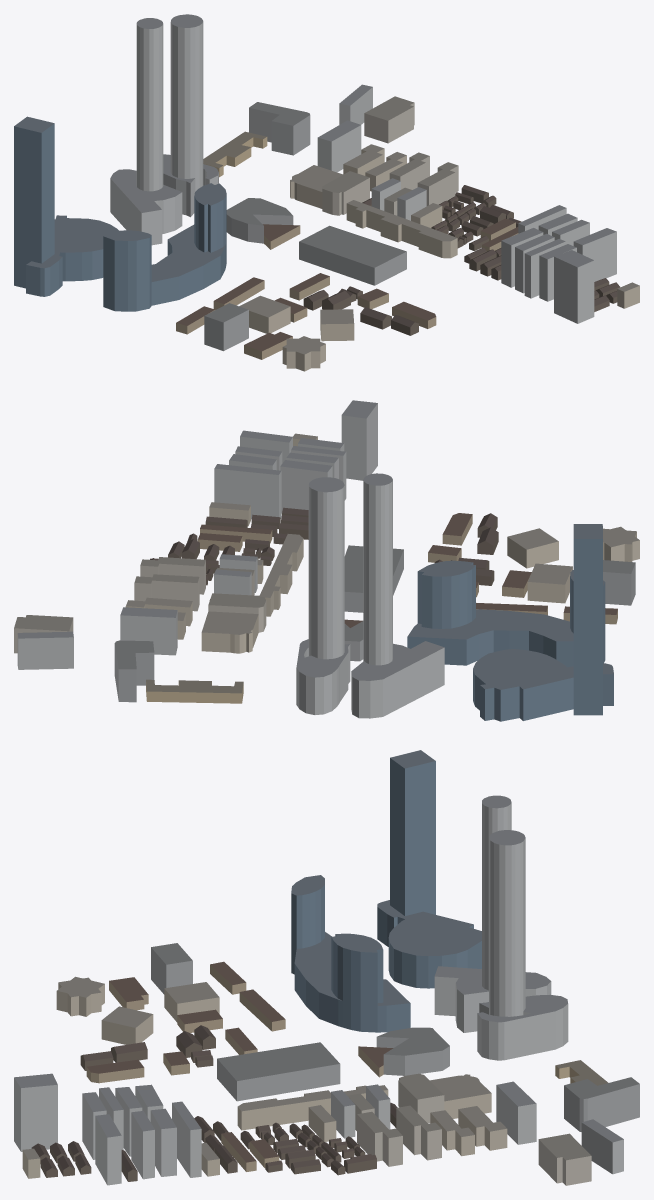
File: tile_4_7.glb
3 renders of one model, top to bottom at view 1: azimuth 30°, elevation 25°; view 2: azimuth 150°, elevation 25°; view 3: azimuth 270°, elevation 25°, orthographic. The views are drawn at different scales.
Visible parts, largest first — view 1: HP-w372180394, HP-w257424587, HP-w436817401, HP-w436817402, HP-w306461799, HP-w165952548, HP-w505643413, HP-w1197273918, HP-w165952553, HP-w369238008, HP-w505641134, HP-w372180463 (+27 smaller); view 2: HP-w372180394, HP-w436817401, HP-w257424587, HP-w436817402, HP-w505649222, HP-w505643413, HP-w505641134, HP-w165824718, HP-w369237858, HP-w1197273918, HP-w493840181, HP-w165952548 (+27 smaller); view 3: HP-w372180394, HP-w436817402, HP-w257424587, HP-w436817401, HP-w306461799, HP-w1197273918, HP-w505643413, HP-w165952553, HP-w165952548, HP-w369238008, HP-w505641134, HP-w372180529 (+29 smaller).
Boxes of the visible parts, <box> form: HP-w372180394: <box>14,116,118,296</box>; HP-w257424587: <box>103,183,226,311</box>; HP-w436817401: <box>110,18,182,245</box>; HP-w436817402: <box>163,14,218,217</box>; HP-w306461799: <box>299,225,406,285</box>; HP-w165952548: <box>346,200,457,258</box>; HP-w505643413: <box>554,250,594,323</box>; HP-w1197273918: <box>249,102,310,155</box>; HP-w165952553: <box>226,198,293,243</box>; HP-w369238008: <box>364,96,414,143</box>; HP-w505641134: <box>317,120,361,172</box>; HP-w372180463: <box>204,303,248,351</box>; HP-w372180394: <box>473,524,613,721</box>; HP-w436817401: <box>351,473,444,718</box>; HP-w257424587: <box>407,560,605,667</box>; HP-w436817402: <box>296,477,350,714</box>; HP-w505649222: <box>214,464,281,519</box>; HP-w505643413: <box>341,400,377,480</box>; HP-w505641134: <box>120,607,177,655</box>; HP-w165824718: <box>201,611,258,653</box>; HP-w369237858: <box>17,631,73,669</box>; HP-w1197273918: <box>114,640,154,702</box>; HP-w493840181: <box>146,679,243,703</box>; HP-w165952548: <box>259,534,303,616</box>; HP-w372180394: <box>377,750,481,988</box>; HP-w436817402: <box>477,830,568,1060</box>; HP-w257424587: <box>291,875,410,1032</box>; HP-w436817401: <box>434,795,551,1032</box>; HP-w306461799: <box>217,1042,340,1101</box>; HP-w1197273918: <box>564,1077,639,1131</box>; HP-w505643413: <box>14,1073,57,1151</box>; HP-w165952553: <box>376,1027,449,1075</box>; HP-w165952548: <box>237,1085,388,1130</box>; HP-w369238008: <box>538,1133,591,1185</box>; HP-w505641134: <box>496,1081,536,1144</box>; HP-w372180529: <box>357,1111,402,1166</box>.
Bounding box in the file's own units: 516 × 208 × 533.
